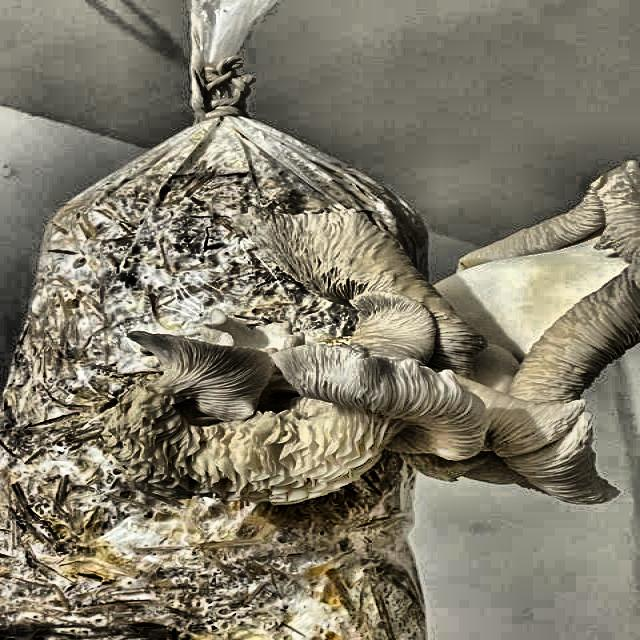Healthy: (210, 272, 640, 526)
